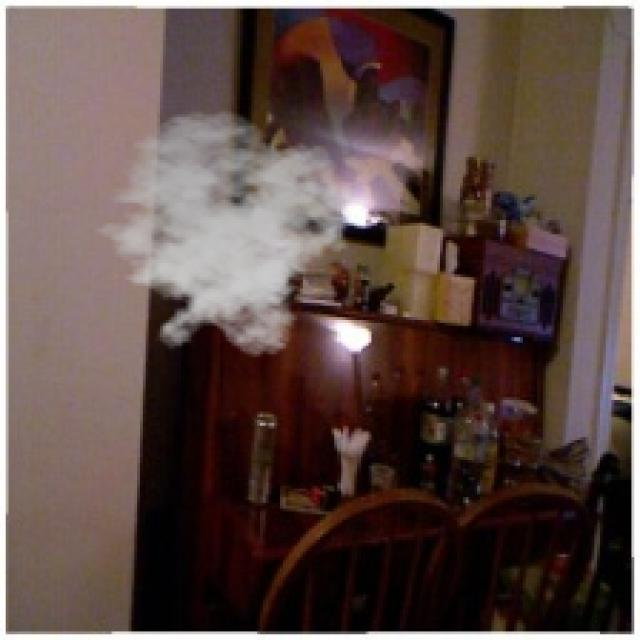smoke: (80, 109, 360, 357)
